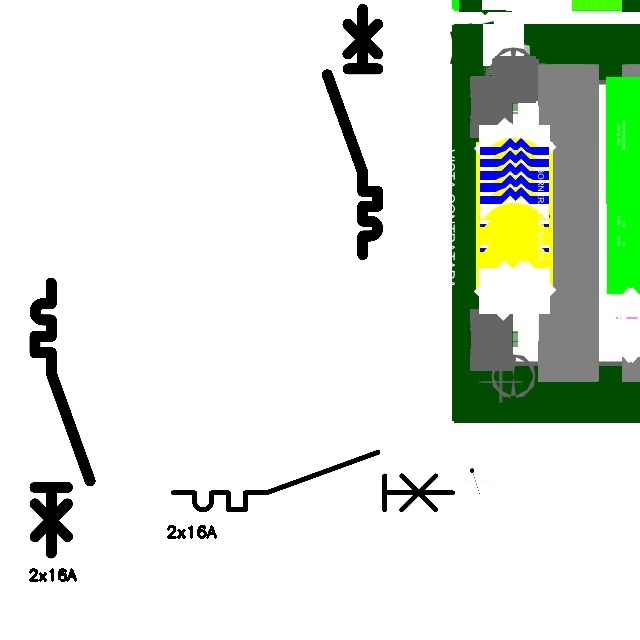interruptor_termomagnetico: (166, 445, 460, 517), (28, 276, 97, 559), (321, 3, 384, 261)
